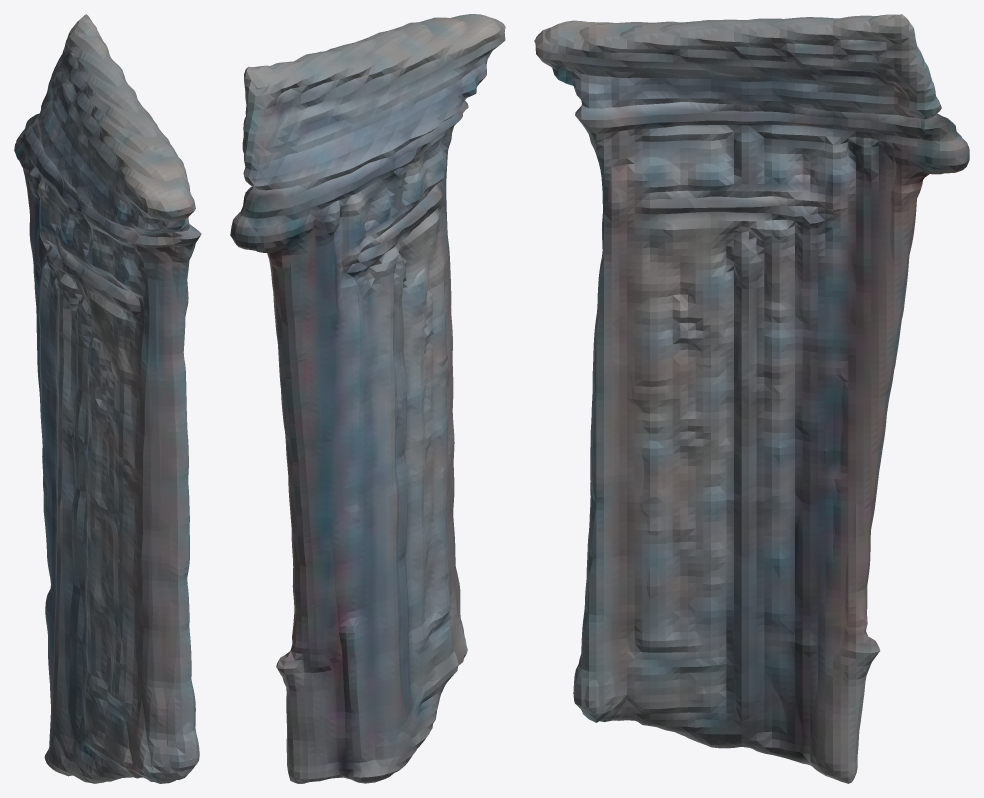
The model's file is vincent.glb.
The picture shows the model from 3 angles, left to right: view 1: azimuth 30°, elevation 25°; view 2: azimuth 150°, elevation 25°; view 3: azimuth 270°, elevation 25°; orthographic projection. The views are drawn at different scales.
Parts seen in each view (by area): view 1: world; view 2: world; view 3: world.
Boxes of the visible parts, x1,y1,x2,y2 form: world: [14, 14, 201, 783]; world: [230, 14, 505, 783]; world: [534, 14, 969, 783].
Bounding box in the file's own units: 0.1127 × 0.7725 × 0.3894.
